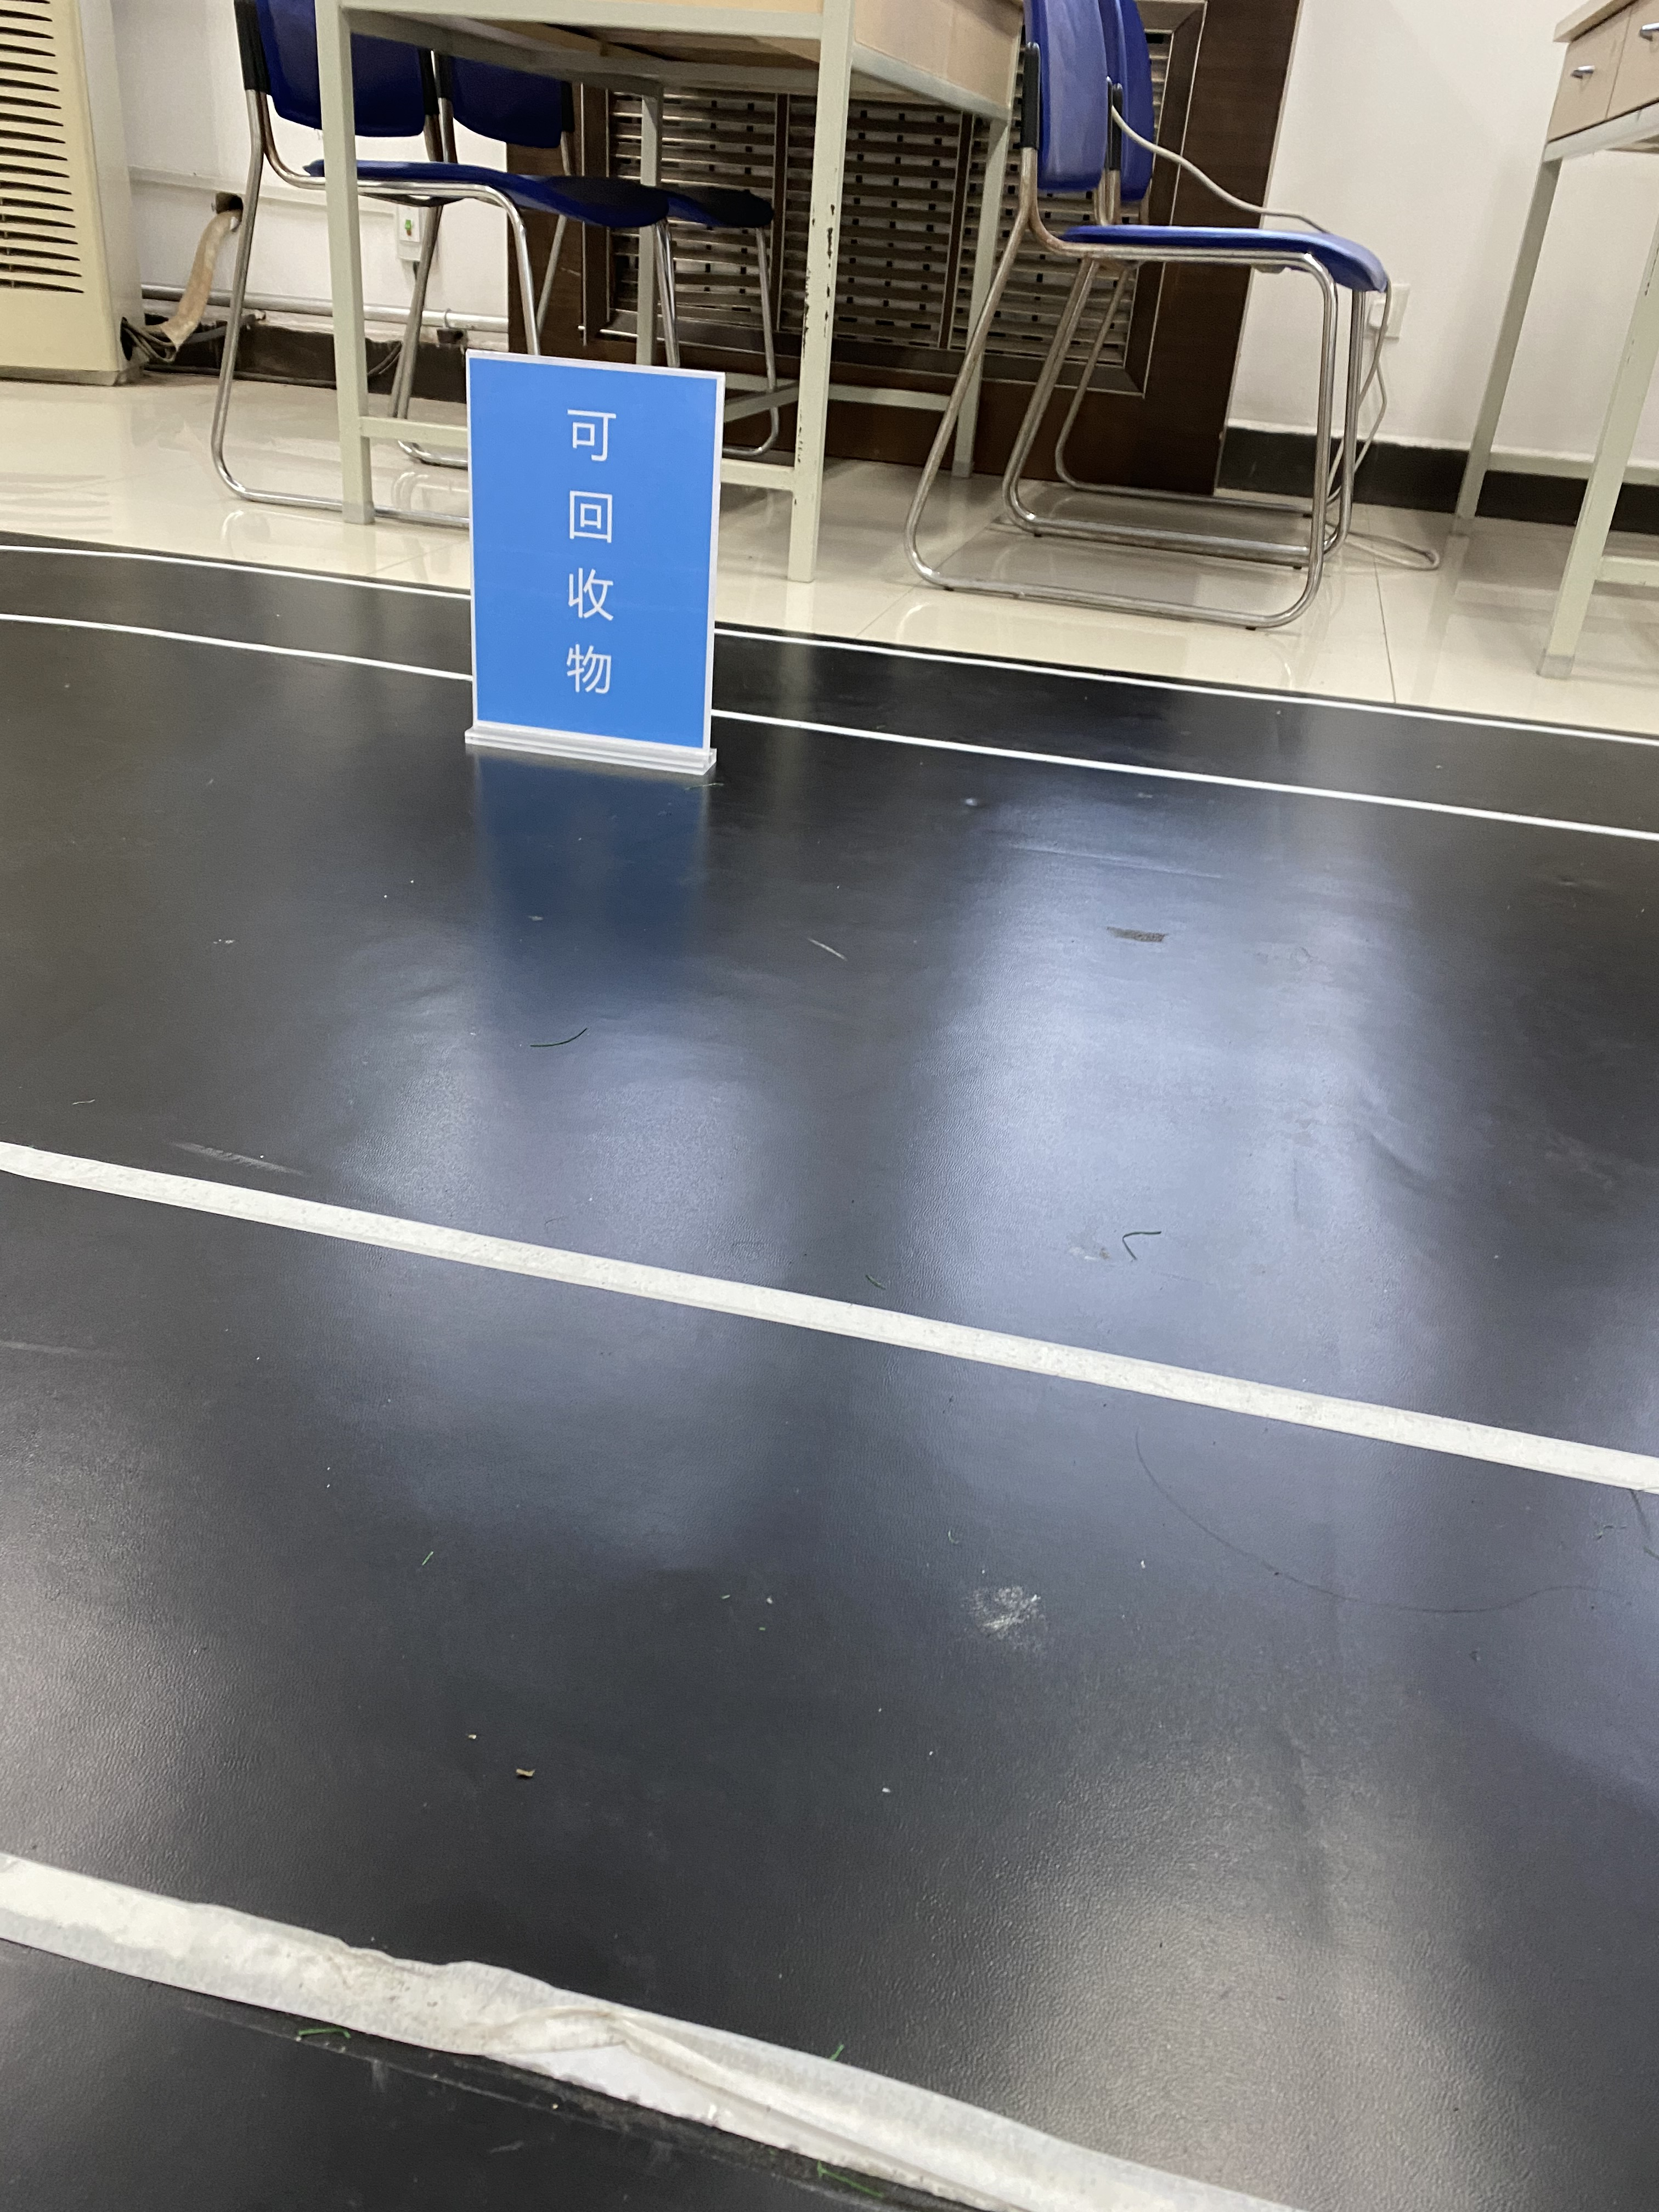blue: (476, 371, 711, 744)
